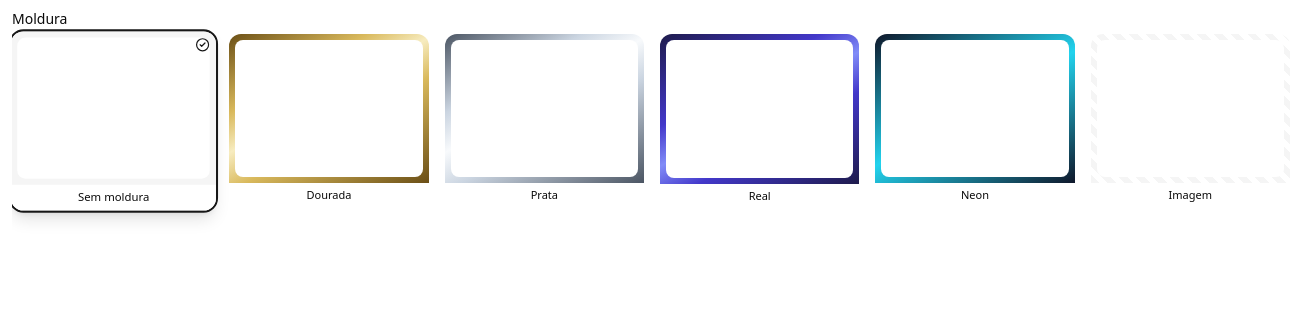
Scenario: CardFramePicker › asks for an image only when the image frame is chosen
The width and height of the screenshot is (1304, 314).
Expected: the field labelled "Imagem da moldura" is not shown
Step 1. Click the button titled "Imagem" → point(1190, 121), box [1089,32,1292,210]
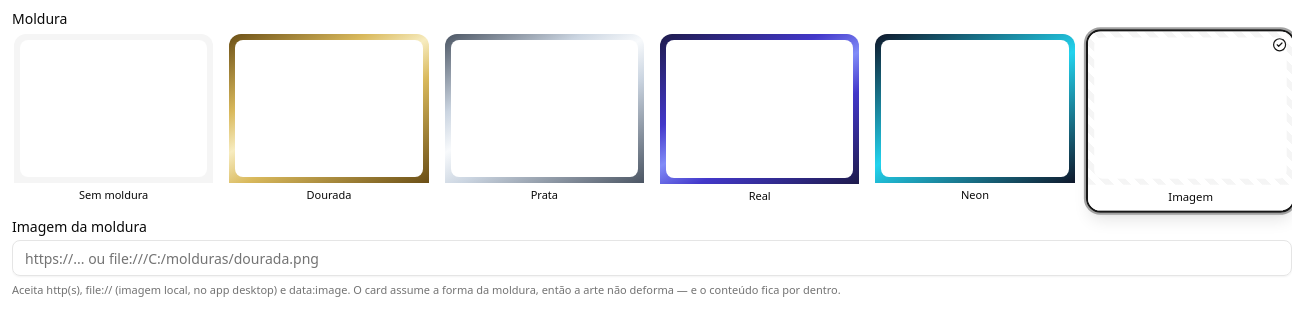
Expected: the field labelled "Imagem da moldura" is shown, [12,240,1292,276]
